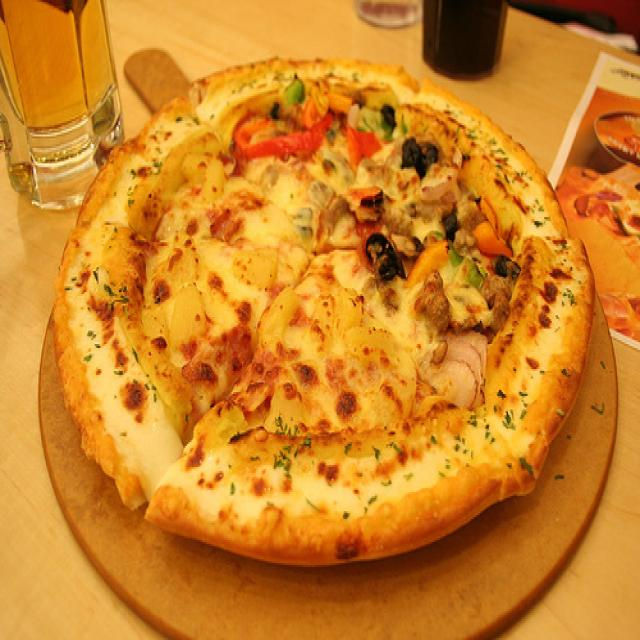Wet Waste: (46, 49, 599, 579)
